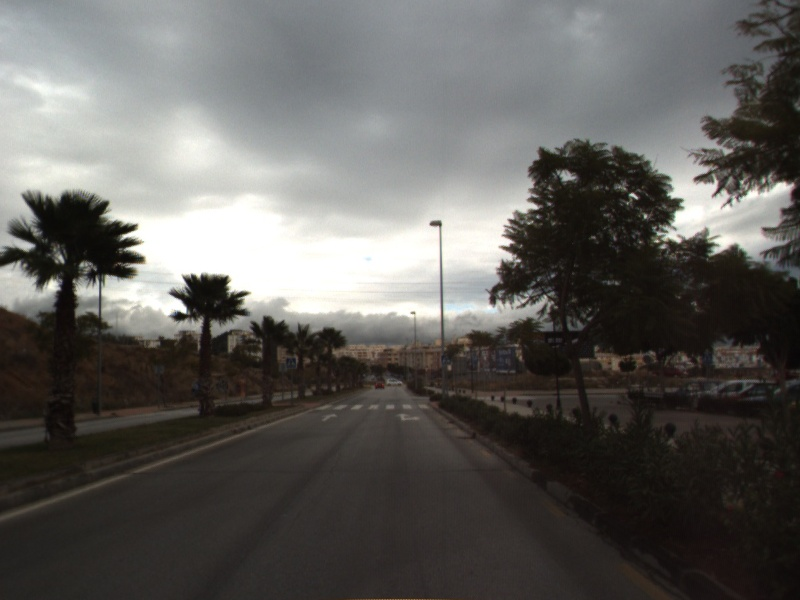STRAIGHT: (319, 411, 340, 423)
STRAIGHT_RIGHT: (393, 411, 423, 423)
